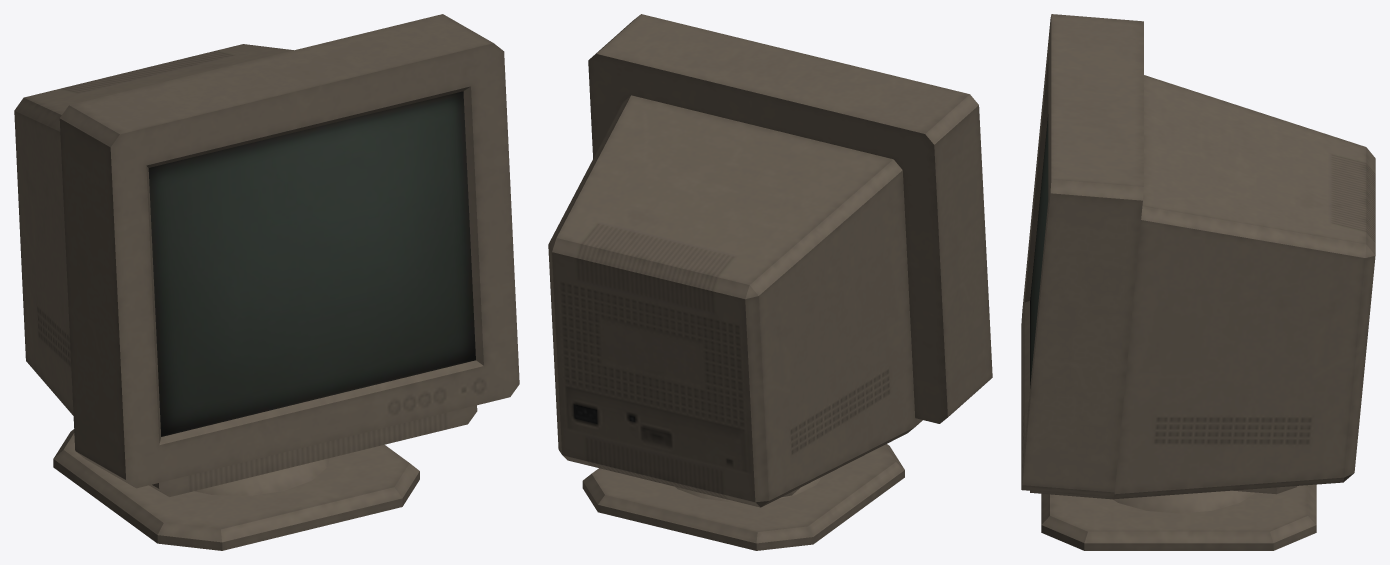
File: pc_monitor_mp_1.dae
3 views of the same model, side by side, from view 1: azimuth 30°, elevation 25°; view 2: azimuth 150°, elevation 25°; view 3: azimuth 270°, elevation 25° (orthographic). The views are drawn at different scales.
Visible parts, largest first — view 1: pc_monitor_mp_1_screen, pc_monitor_mp_1; view 2: pc_monitor_mp_1_screen, pc_monitor_mp_1; view 3: pc_monitor_mp_1_screen, pc_monitor_mp_1.
Boxes of the visible parts, x1=… form: pc_monitor_mp_1_screen: x1=14, y1=14, x2=519, y2=496; pc_monitor_mp_1: x1=53, y1=429, x2=419, y2=550; pc_monitor_mp_1_screen: x1=548, y1=14, x2=992, y2=507; pc_monitor_mp_1: x1=582, y1=444, x2=904, y2=550; pc_monitor_mp_1_screen: x1=1021, y1=14, x2=1375, y2=499; pc_monitor_mp_1: x1=1041, y1=484, x2=1316, y2=550.
Size of the model in its own units: 0.48 by 0.412 by 0.5083.
Materials: 2 (2 with a texture image).
